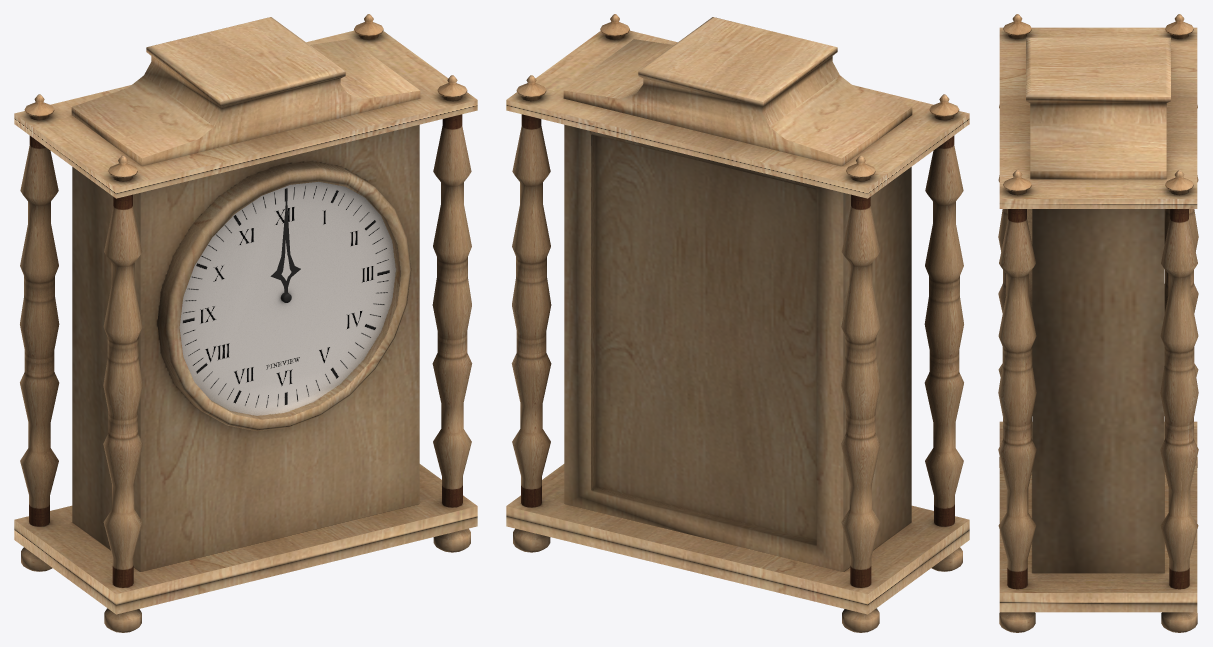
File: tischuhr_03.fbx
3 views of the same model, side by side, from view 1: azimuth 30°, elevation 25°; view 2: azimuth 150°, elevation 25°; view 3: azimuth 270°, elevation 25° (orthographic). The views are drawn at different scales.
Visible parts, largest first — view 1: tischuhr_03; view 2: tischuhr_03; view 3: tischuhr_03.
Part boxes in pixels (x1,y1,x2,y2): tischuhr_03: [14, 14, 477, 632]; tischuhr_03: [506, 14, 969, 632]; tischuhr_03: [998, 14, 1198, 632].
Bounding box in the file's own units: 26.25 × 34.45 × 12.92.
